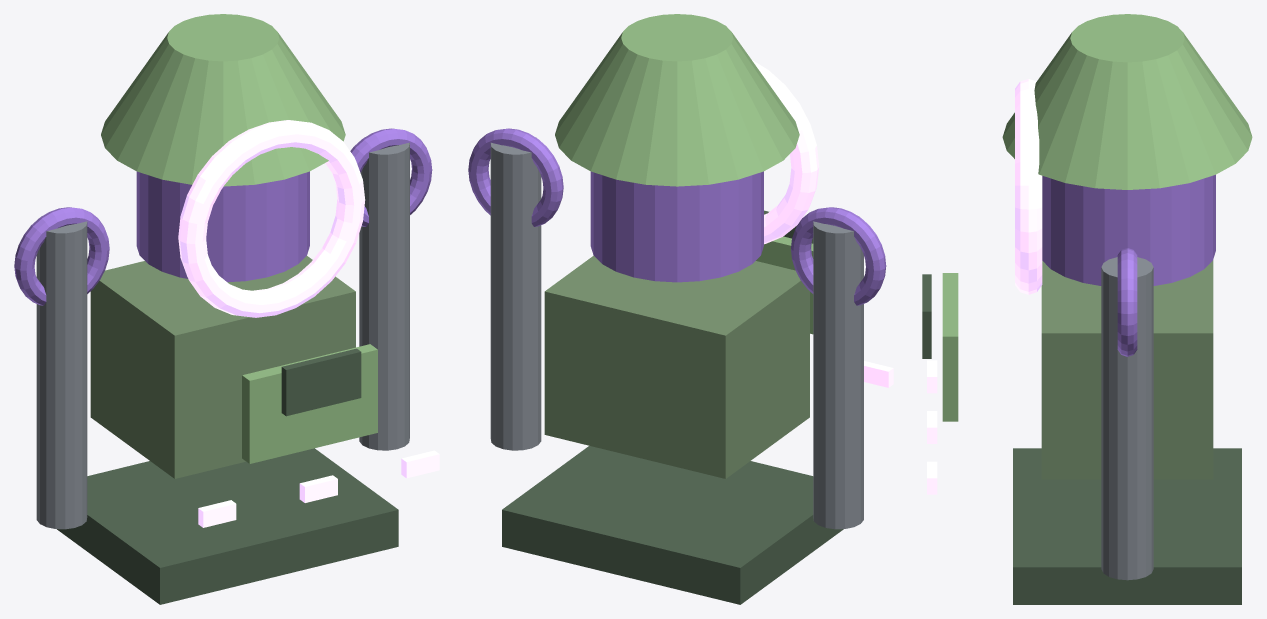
The model's file is asset.glb.
3 renders of one model, left to right at view 1: azimuth 30°, elevation 25°; view 2: azimuth 150°, elevation 25°; view 3: azimuth 270°, elevation 25°, orthographic. The views are drawn at different scales.
Parts seen in each view (by area): view 1: Housing, Foot, TopCap, SidePost_-1, CoreHalo, Core, SidePost_1, FrontInset, ControlFace, SideRing_-1, SideRing_1, FunctionalTrim_1 (+2 smaller); view 2: Housing, Foot, TopCap, Core, SidePost_1, SidePost_-1, CoreHalo, SideRing_-1, SideRing_1, FrontInset, FunctionalTrim_0; view 3: TopCap, Foot, Housing, SidePost_1, Core, CoreHalo, FrontInset, SideRing_1, ControlFace.
Part boxes in pixels (x1,y1,x2,y2): Housing: (90,256,355,478); Foot: (57,448,398,604); TopCap: (101,14,345,186); SidePost_-1: (36,216,87,529); CoreHalo: (178,120,365,317); Core: (136,171,309,282); SidePost_1: (359,137,409,450); FrontInset: (242,344,377,463); ControlFace: (281,348,361,416); SideRing_-1: (14,207,109,305); SideRing_1: (350,128,432,226); FunctionalTrim_1: (299,475,337,502); Housing: (544,255,809,478); Foot: (502,446,843,604); TopCap: (555,14,799,186); Core: (590,171,763,282); SidePost_1: (490,137,541,450); SidePost_-1: (813,216,863,529); CoreHalo: (752,60,819,244); SideRing_-1: (791,207,886,305); SideRing_1: (468,128,563,226); FrontInset: (756,236,813,334); FunctionalTrim_0: (864,361,893,387); TopCap: (1002,14,1252,189); Foot: (1013,448,1241,604); Housing: (1041,260,1213,479); SidePost_1: (1101,257,1153,580); Core: (1042,174,1215,285); CoreHalo: (1015,79,1042,294); FrontInset: (942,273,958,421); SideRing_1: (1117,248,1137,356); ControlFace: (922,274,931,358).
Bounding box in the file's own units: 1.88 × 2.15 × 1.27.
